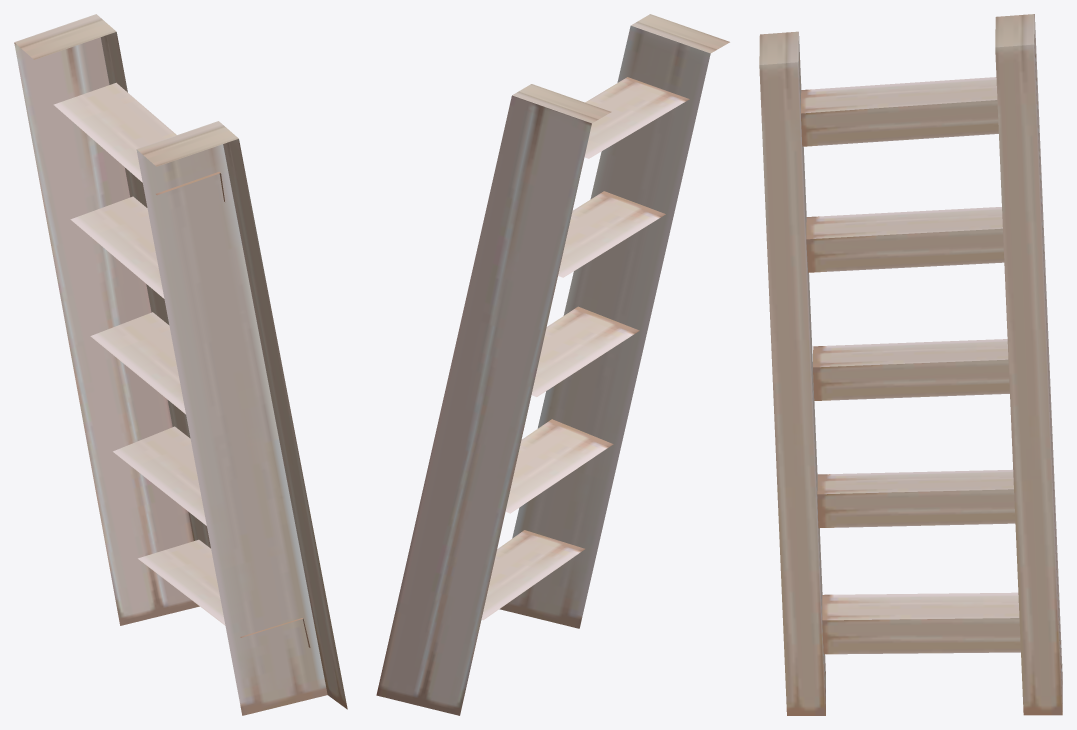
The model's file is BarnLadder2.fbx.
3 renders of one model, left to right at view 1: azimuth 30°, elevation 25°; view 2: azimuth 150°, elevation 25°; view 3: azimuth 270°, elevation 25°, orthographic. The views are drawn at different scales.
Visible parts, largest first — view 1: BarnLadder (7); view 2: BarnLadder (7); view 3: BarnLadder (7).
Boxes of the visible parts, bbox=[...] form: BarnLadder (7): bbox=[14, 14, 347, 715]; BarnLadder (7): bbox=[376, 14, 729, 715]; BarnLadder (7): bbox=[759, 14, 1062, 715].
Size of the model in its own units: 0.5915 by 1.74 by 0.7791.
1 material, 1 textured.
